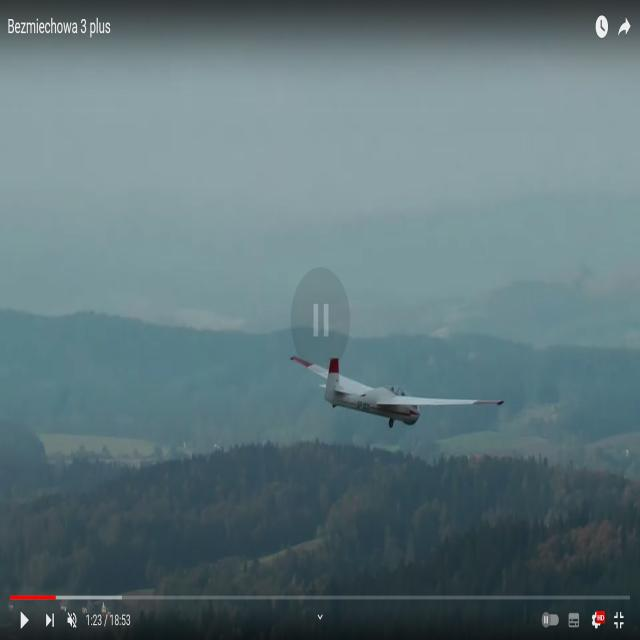iha: (281, 382, 498, 387)
